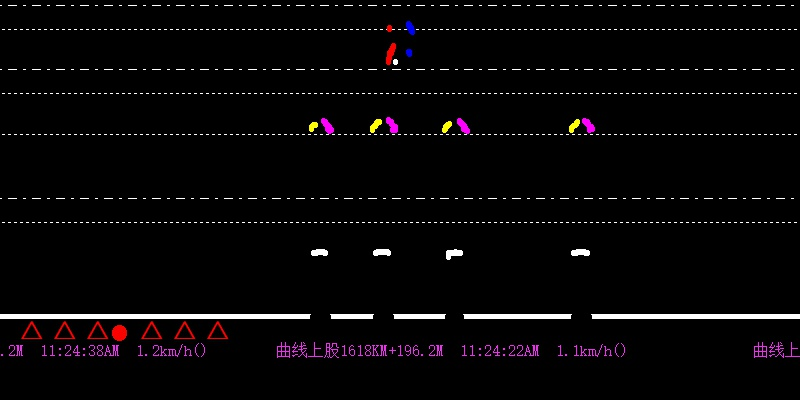L: (296, 111, 600, 263)
circle: (112, 323, 126, 343)
face_1: (405, 21, 416, 36), (384, 22, 392, 33)
